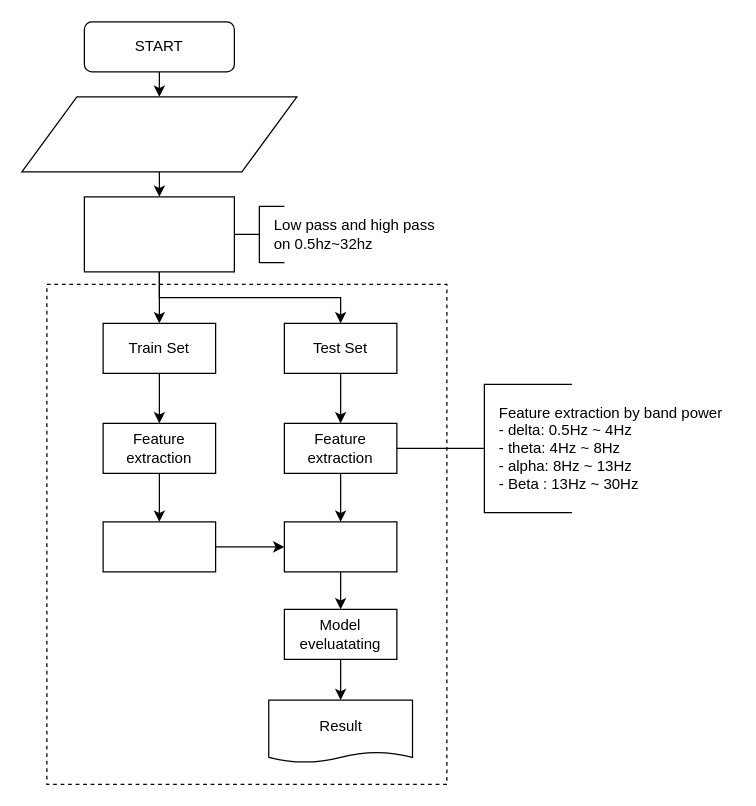
Some shapes in this 756 by 806 pixel diagram are drawn without their labels. Here are the shapes that lost their labels. From the top down, the box of each, then its label:
(21, 96, 297, 172): Load 5min-EC EEG data 30 MDD, 30 normal
(83, 196, 234, 272): Noise Reduction
(102, 521, 216, 572): Model training
(283, 521, 397, 572): Model testing
